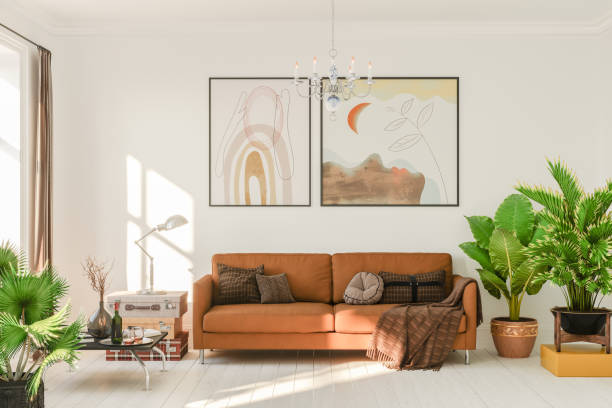flower vase: (81, 254, 115, 341)
large plant: (522, 162, 612, 350), (459, 193, 545, 357), (0, 238, 79, 408)
sofa: (189, 251, 480, 366)
table: (58, 325, 174, 392)
table lamp: (132, 210, 188, 298)
wall art: (317, 73, 461, 209), (206, 74, 313, 209)
